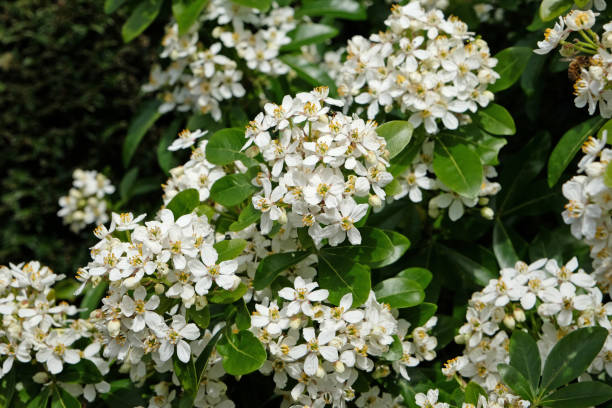flower: (557, 176, 610, 238), (189, 245, 249, 296), (288, 326, 343, 373), (325, 198, 373, 250), (30, 332, 90, 373), (455, 349, 512, 392), (275, 274, 334, 315), (154, 317, 203, 366), (117, 285, 168, 332), (540, 286, 596, 327), (542, 257, 594, 301), (307, 299, 362, 338), (250, 176, 286, 235), (152, 226, 201, 267), (440, 50, 486, 93), (566, 68, 608, 115), (243, 299, 298, 334), (492, 255, 552, 287), (400, 101, 449, 140), (451, 307, 502, 344), (17, 298, 75, 330), (399, 69, 442, 112), (261, 133, 305, 175), (301, 171, 352, 207), (285, 203, 324, 250), (279, 182, 328, 219), (396, 161, 436, 206), (350, 164, 397, 201), (432, 182, 479, 219), (285, 358, 326, 399), (101, 322, 145, 360), (390, 35, 434, 73), (532, 17, 571, 58), (113, 245, 156, 282), (575, 131, 612, 174), (354, 80, 396, 117), (382, 0, 432, 30), (477, 279, 528, 308), (154, 128, 208, 155), (297, 135, 342, 167), (576, 292, 611, 333), (348, 50, 386, 86), (90, 245, 128, 281), (347, 117, 388, 149), (2, 336, 34, 376), (390, 336, 417, 383), (264, 338, 310, 365), (309, 113, 353, 141), (267, 88, 294, 133), (244, 112, 274, 152), (435, 11, 475, 41), (516, 282, 560, 309), (413, 381, 456, 408), (195, 43, 230, 76), (215, 70, 251, 102), (290, 99, 327, 126), (247, 45, 279, 74), (111, 211, 150, 231), (149, 387, 185, 408), (221, 24, 252, 46)
